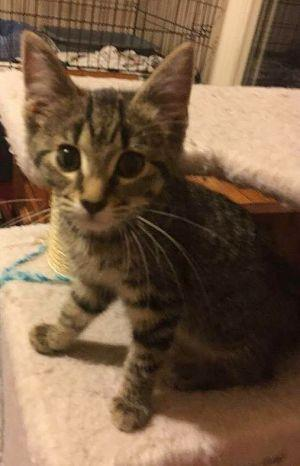bengal: (14, 18, 206, 247)
